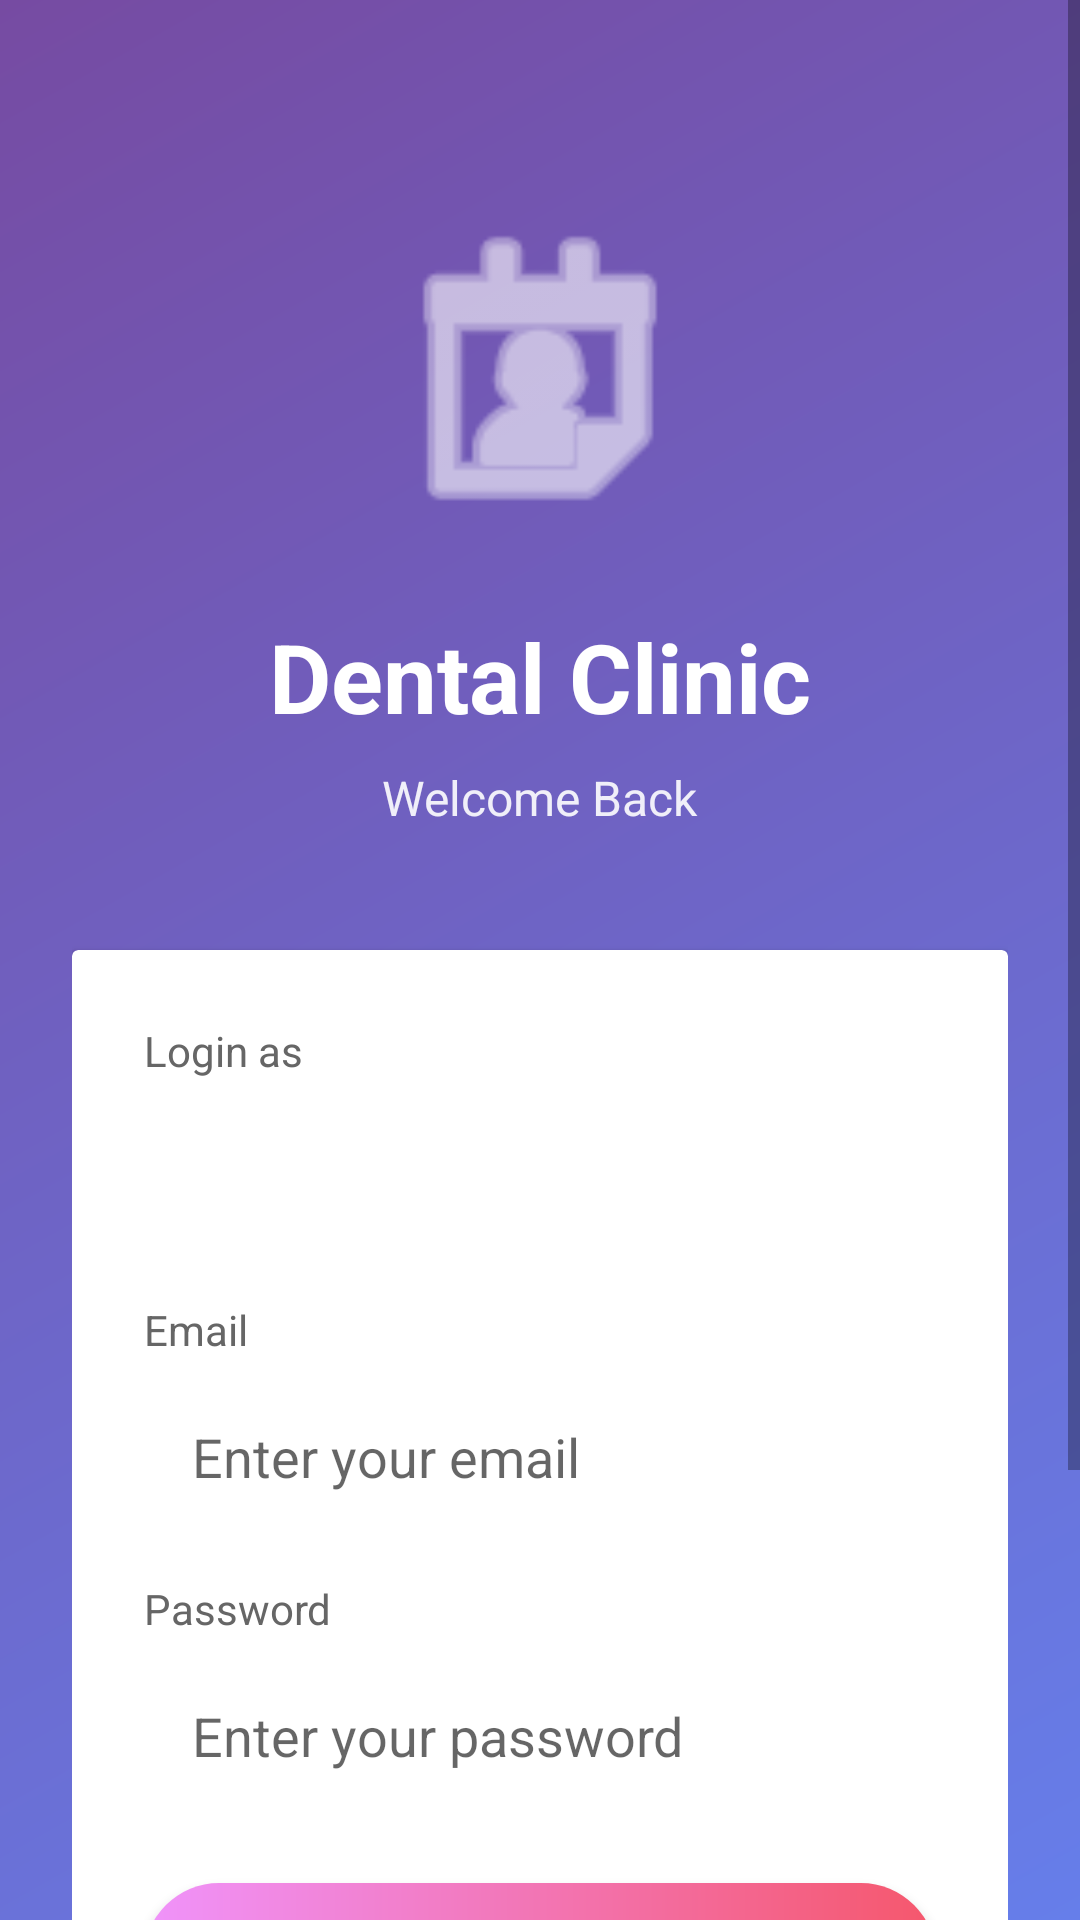

Point at icon controls on the screen. Image size 1080px×1920px, points as point (x, y).
calendar: point (540, 368)
